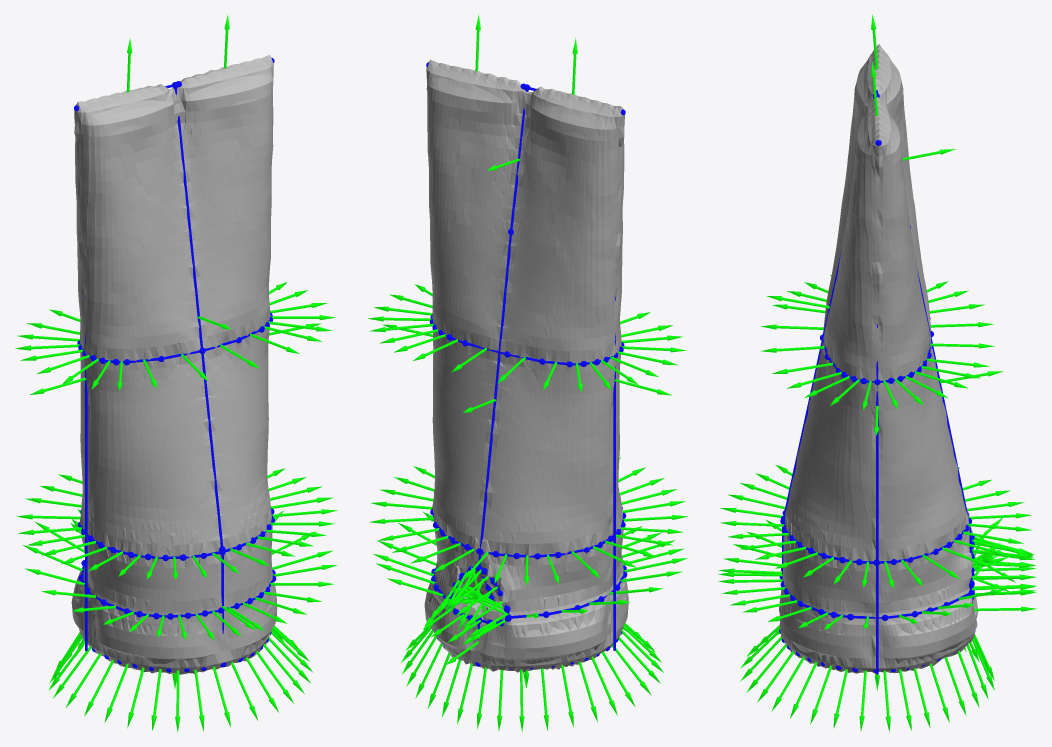
Rendered from t2f_toothpaste.gltf.
The picture shows the model from 3 angles, left to right: view 1: azimuth 30°, elevation 25°; view 2: azimuth 150°, elevation 25°; view 3: azimuth 270°, elevation 25°; orthographic projection.
Size of the model in its own units: 0.5055 by 1.1 by 0.486.
